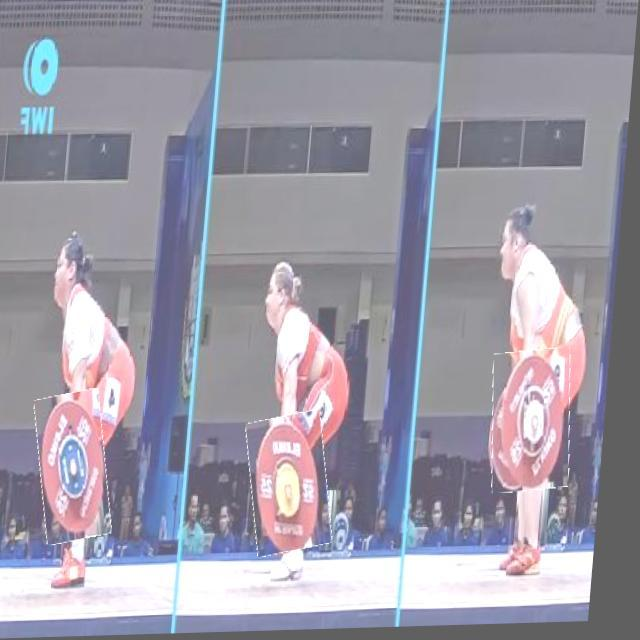barbell: (251, 415, 345, 558), (39, 392, 125, 545), (494, 353, 584, 497)
